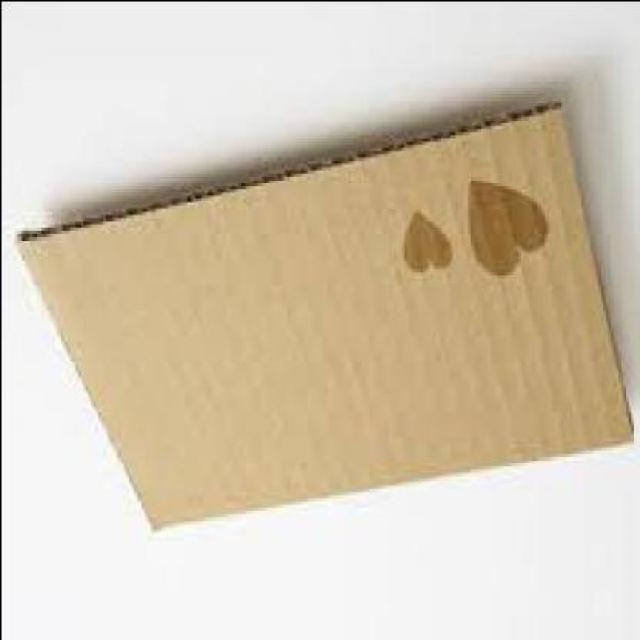cardboard: (14, 104, 631, 536)
